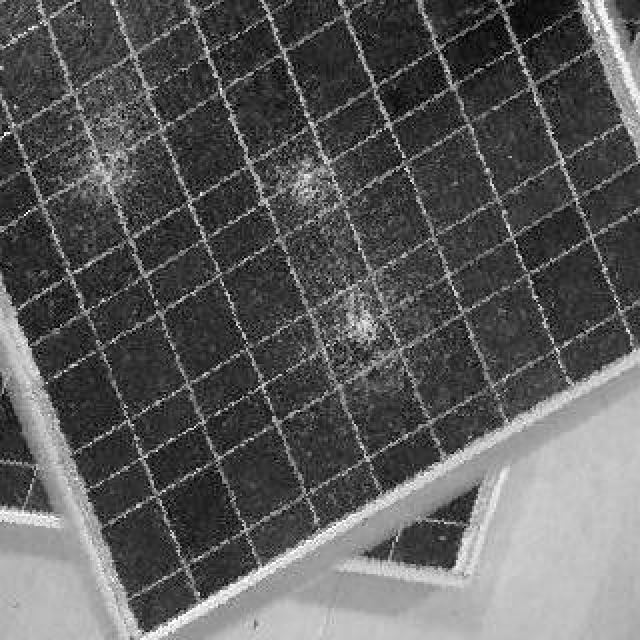Physical-damage: (62, 118, 154, 218), (318, 286, 401, 370), (262, 148, 350, 223)
